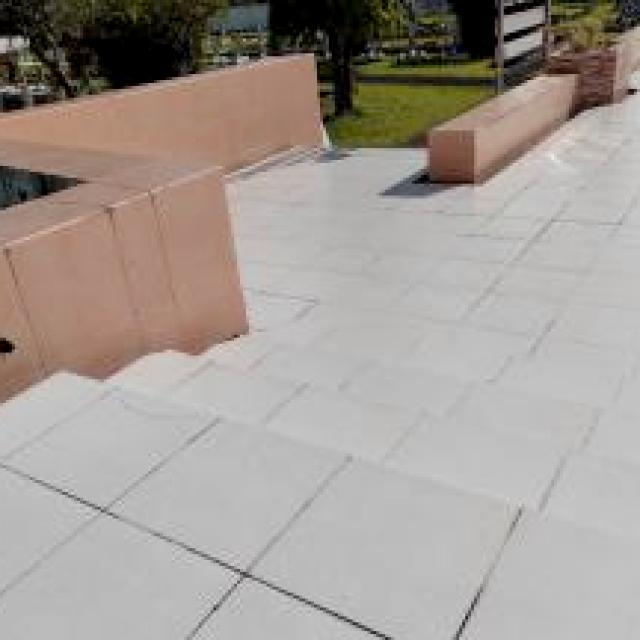upstair: (19, 289, 640, 552)
